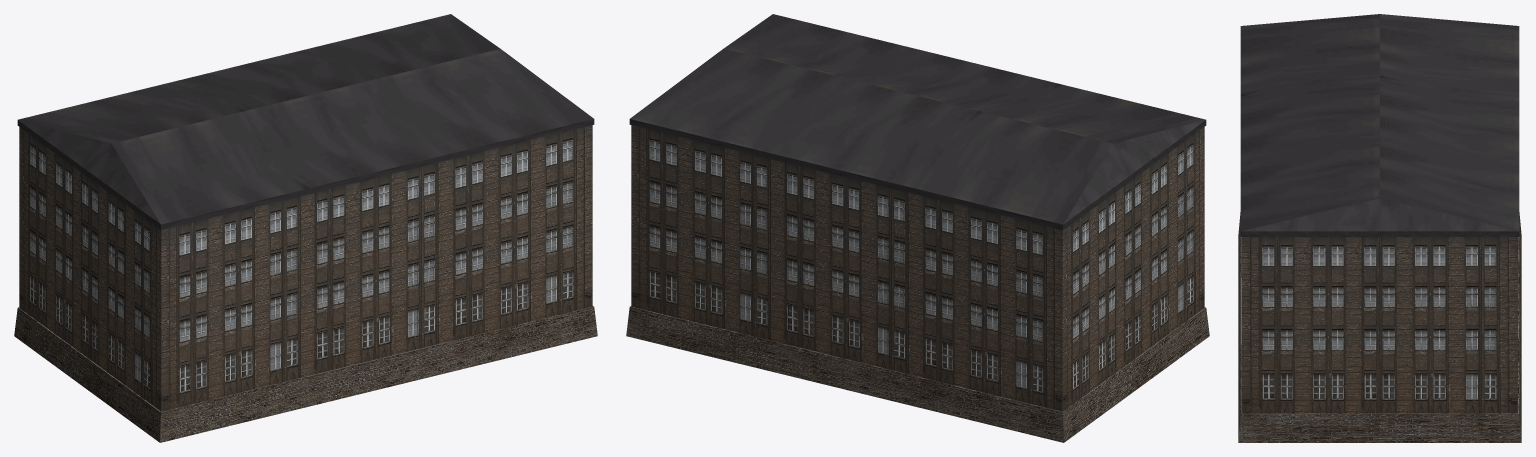
The model's file is factory_building_small_bgr.fbx.
3 views of the same model, side by side, from view 1: azimuth 30°, elevation 25°; view 2: azimuth 150°, elevation 25°; view 3: azimuth 270°, elevation 25° (orthographic). The views are drawn at different scales.
Visible parts, largest first — view 1: factory_building_small_bgr; view 2: factory_building_small_bgr; view 3: factory_building_small_bgr.
Part boxes in pixels (box(x1,y1,x2,y2)): factory_building_small_bgr: box(14, 14, 597, 442); factory_building_small_bgr: box(626, 14, 1209, 442); factory_building_small_bgr: box(1238, 14, 1521, 442).
Size of the model in its own units: 3950 by 2070 by 2280.
